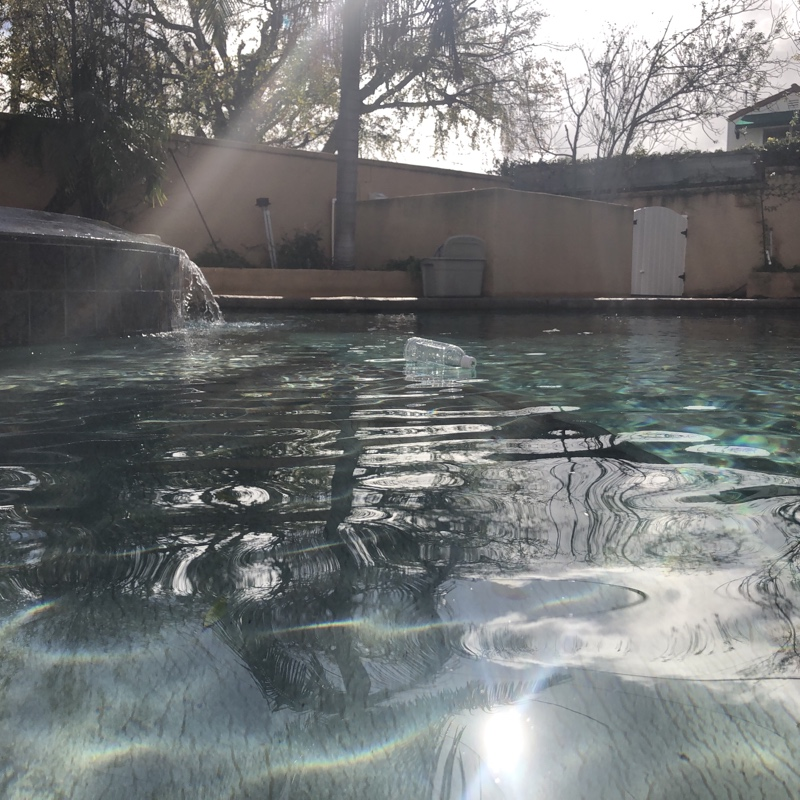Plastic Bottle: (401, 333, 480, 377)
